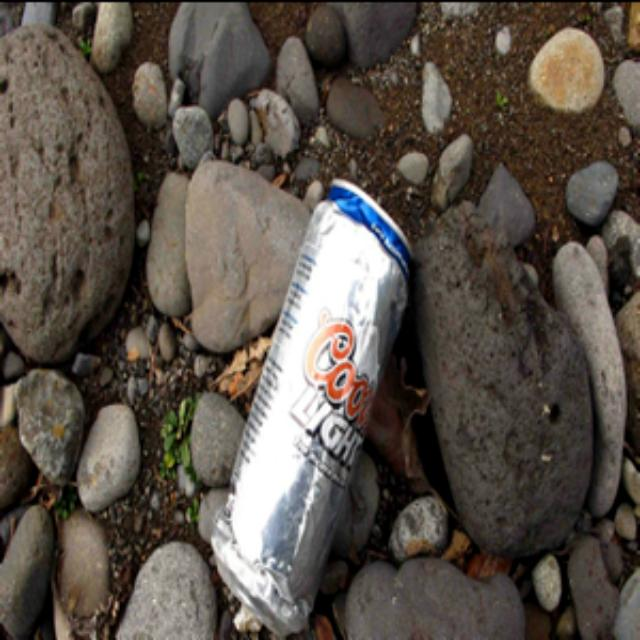Metal: (206, 174, 414, 632)
